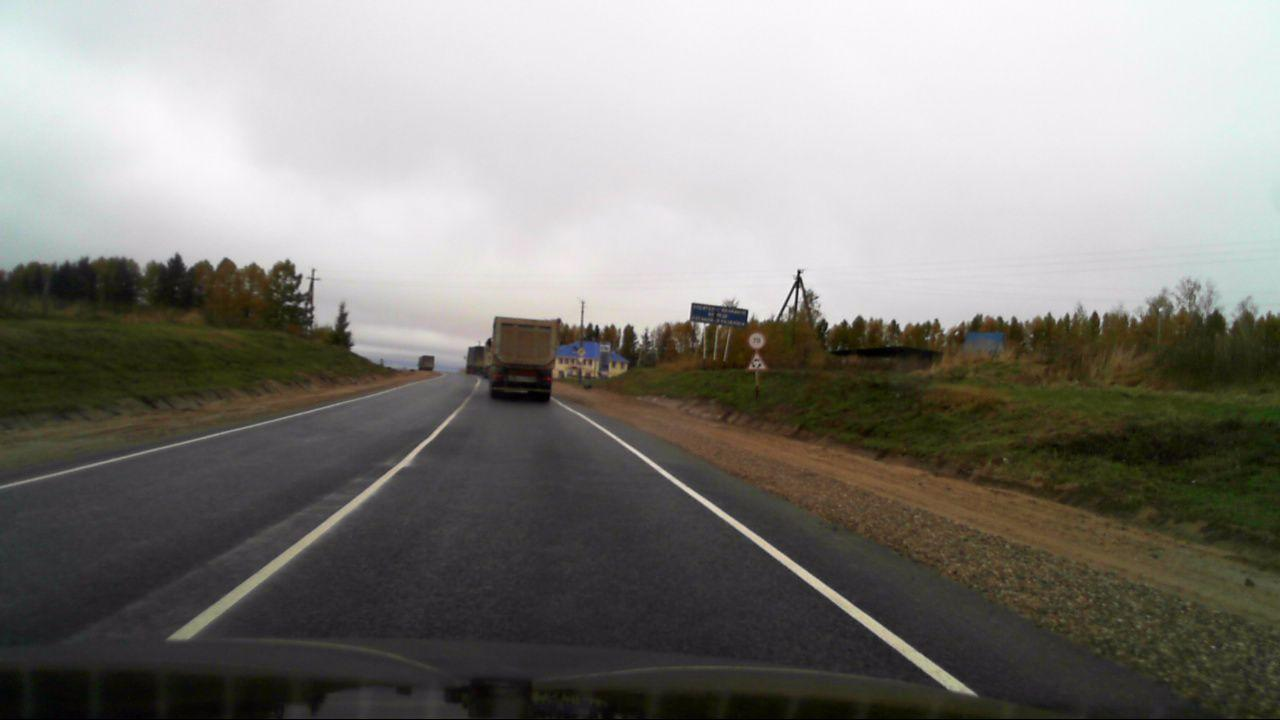1_7: (745, 351, 767, 372)
3_24: (747, 330, 768, 349)
